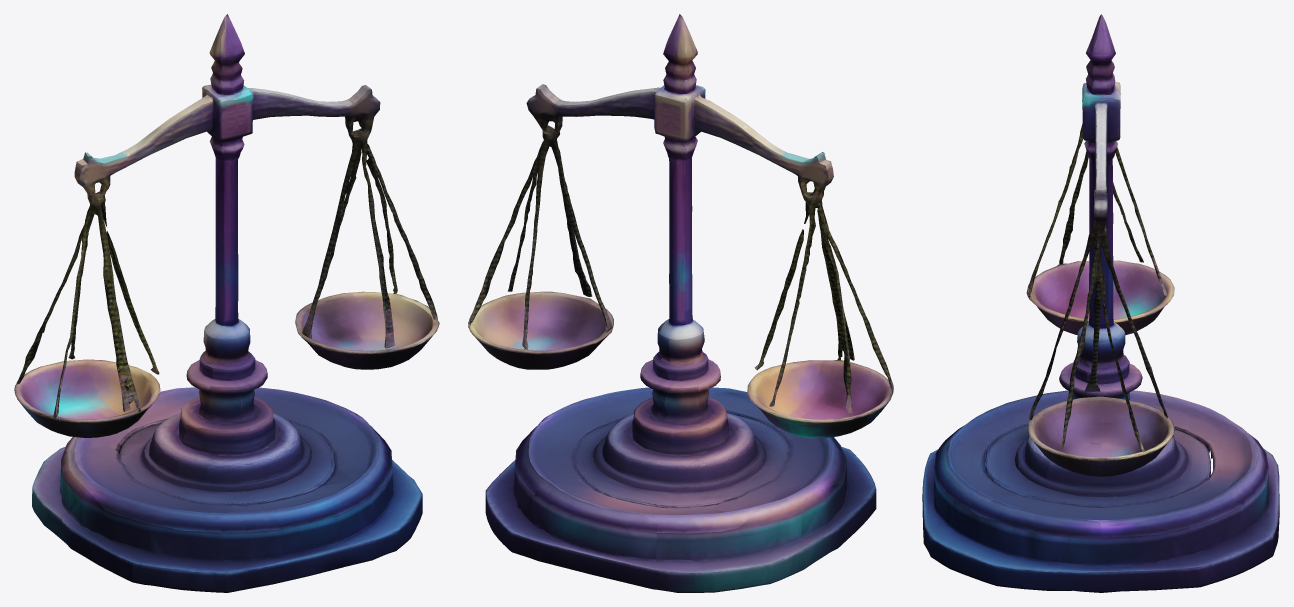
The picture shows the model from 3 angles, left to right: view 1: azimuth 30°, elevation 25°; view 2: azimuth 150°, elevation 25°; view 3: azimuth 270°, elevation 25°; orthographic projection.
Visible parts, largest first — view 1: world; view 2: world; view 3: world.
Boxes of the visible parts, x1=… form: world: x1=14, y1=14, x2=439, y2=592; world: x1=468, y1=14, x2=893, y2=592; world: x1=922, y1=14, x2=1279, y2=592.
Bounding box in the file's own units: 0.6778 × 0.7953 × 0.513.
1 material, 1 textured.
